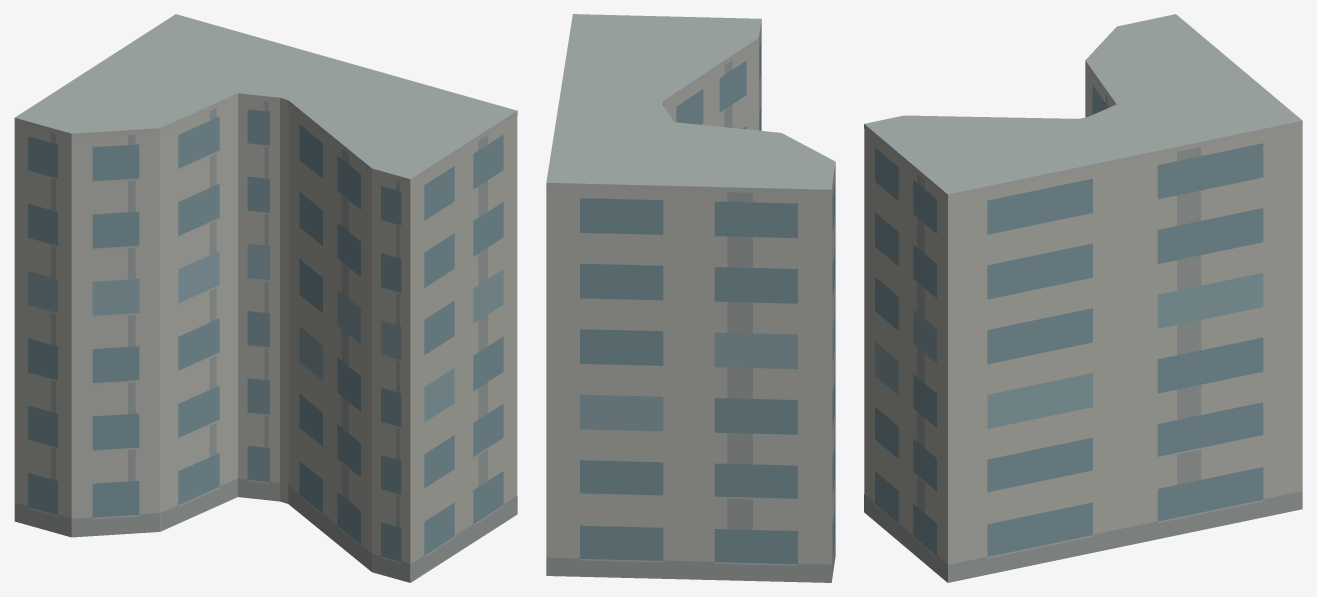
File: survey-upis-32498940.glb
3 renders of one model, left to right at view 1: azimuth 30°, elevation 25°; view 2: azimuth 150°, elevation 25°; view 3: azimuth 270°, elevation 25°, orthographic. The views are drawn at different scales.
Visible parts, largest first — view 1: survey-upis-32498940.tmp; view 2: survey-upis-32498940.tmp; view 3: survey-upis-32498940.tmp.
Part boxes in pixels (<box>): survey-upis-32498940.tmp: <box>14,14,517,582</box>; survey-upis-32498940.tmp: <box>546,14,835,582</box>; survey-upis-32498940.tmp: <box>864,14,1302,582</box>.
Bounding box in the file's own units: 19.01 × 19.07 × 19.52.
